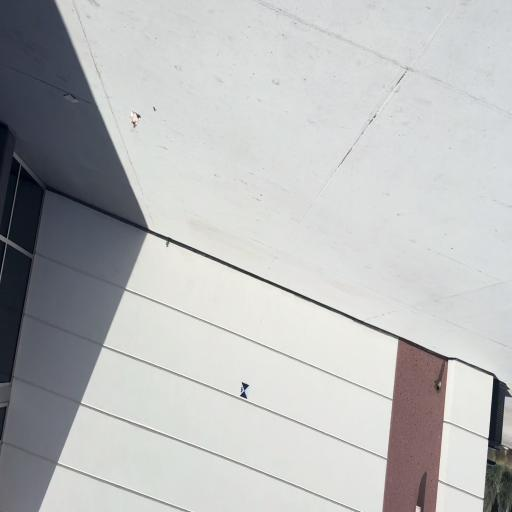target4: (239, 381, 250, 399)
